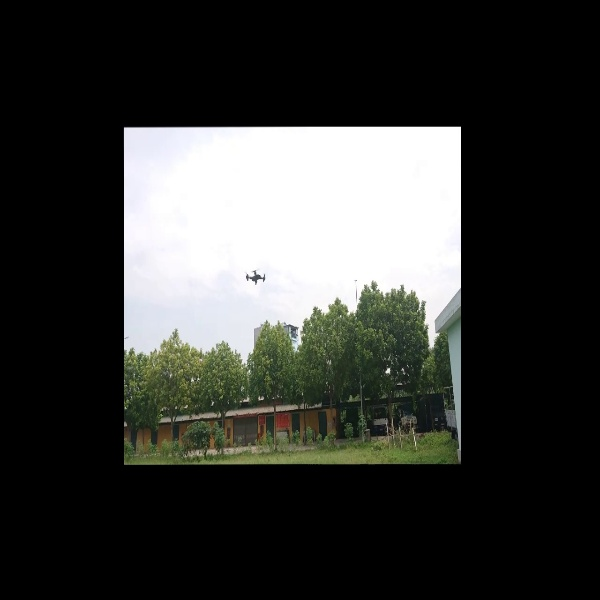drone: (239, 263, 273, 288)
